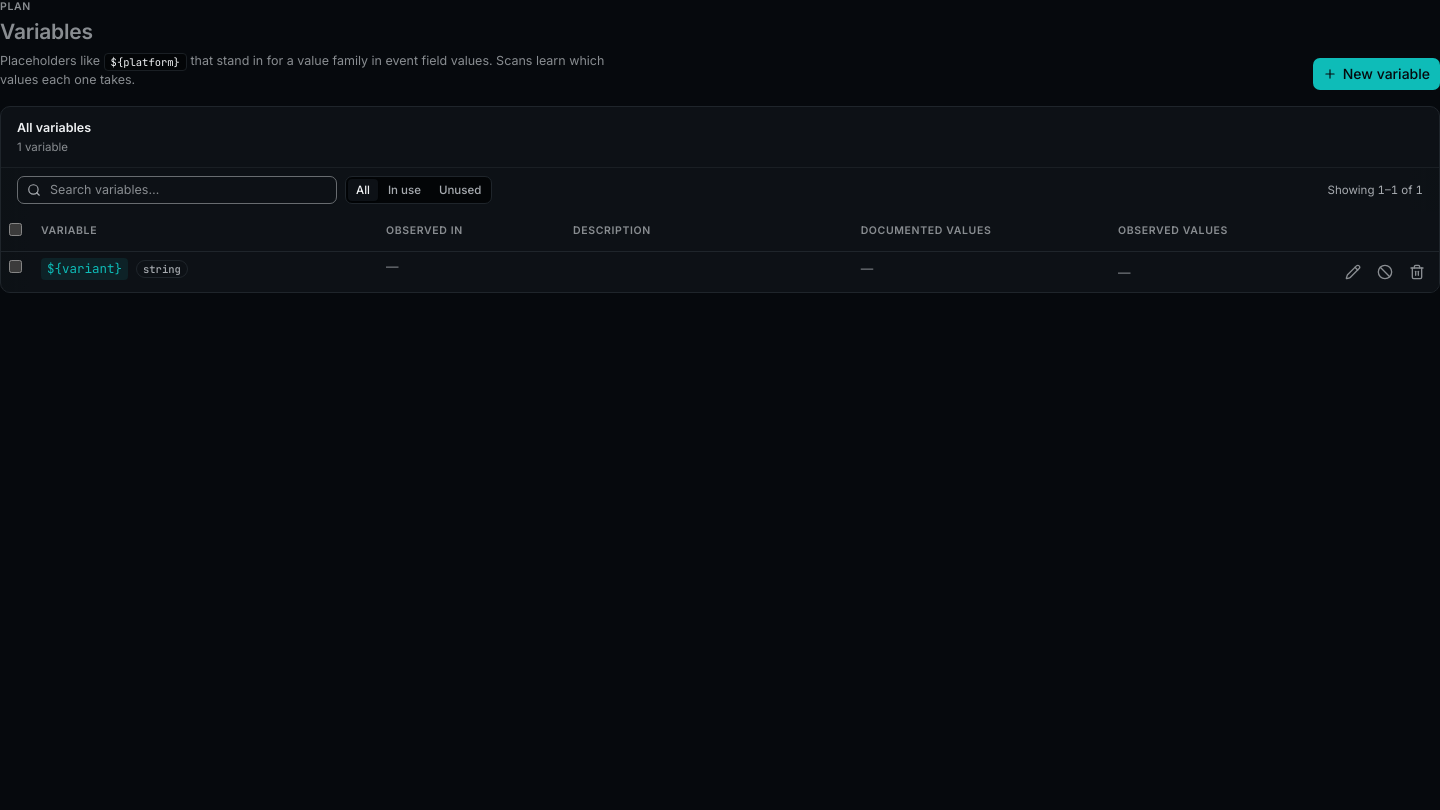
Test case: VariablesTab › says nothing about observed paths when the scan has recorded none
Click the button named "Edit variable variant". click: (1353, 272)
box: top-left (1339, 258), bottom-right (1367, 286)
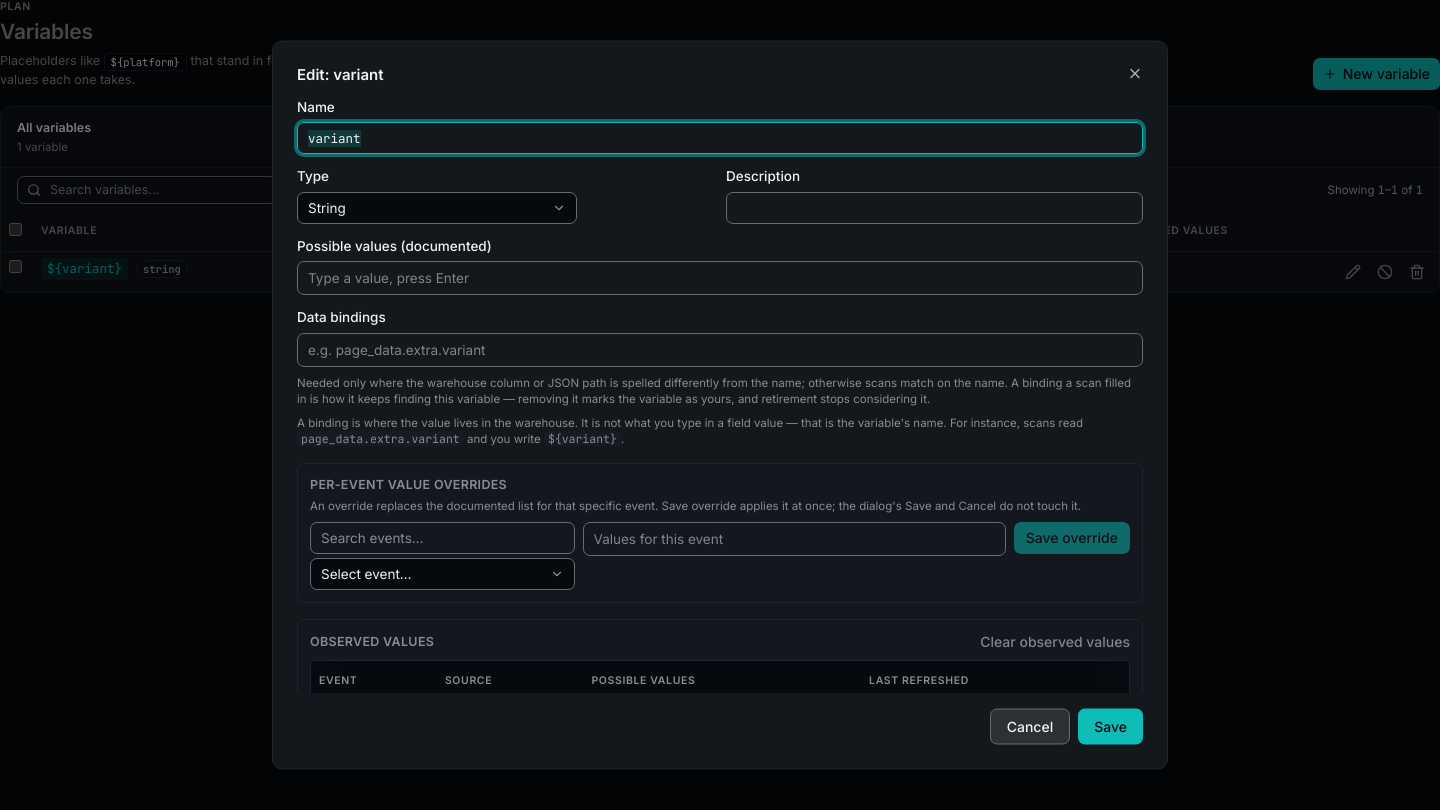
expect the text "Observed values" is shown: met, box top-left (310, 632), bottom-right (434, 650)
